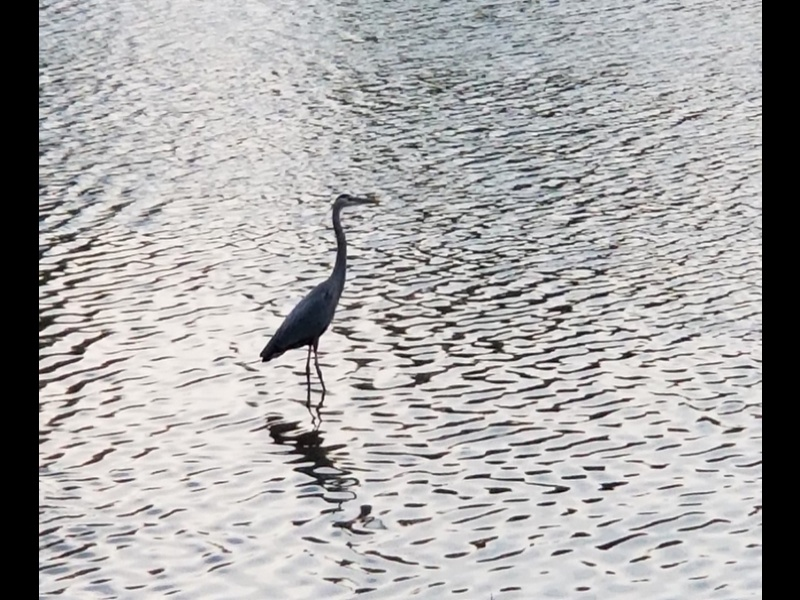heron: (259, 191, 376, 394)
